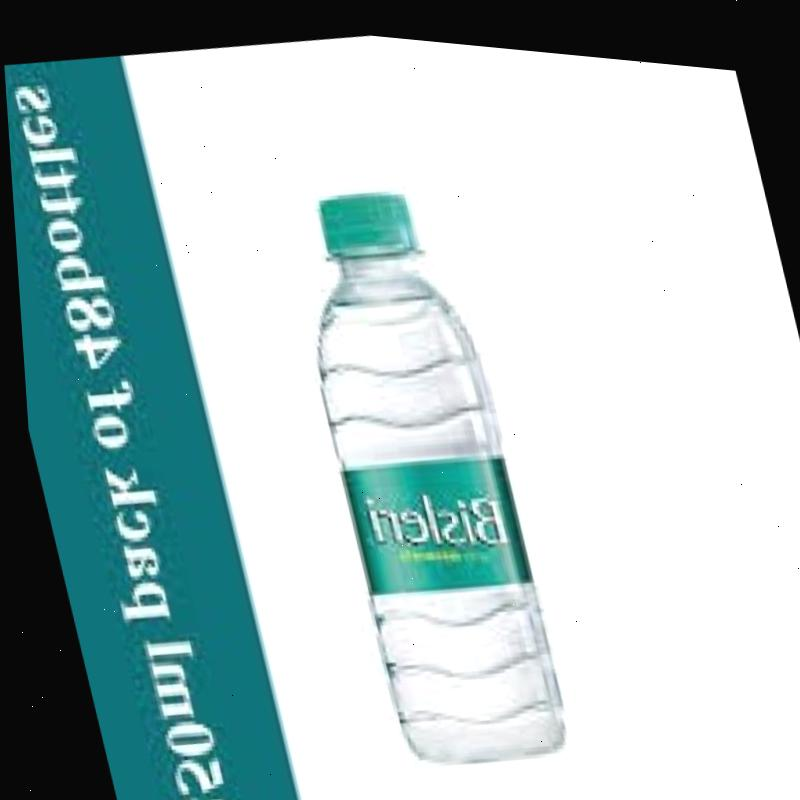botella: (269, 165, 571, 776)
